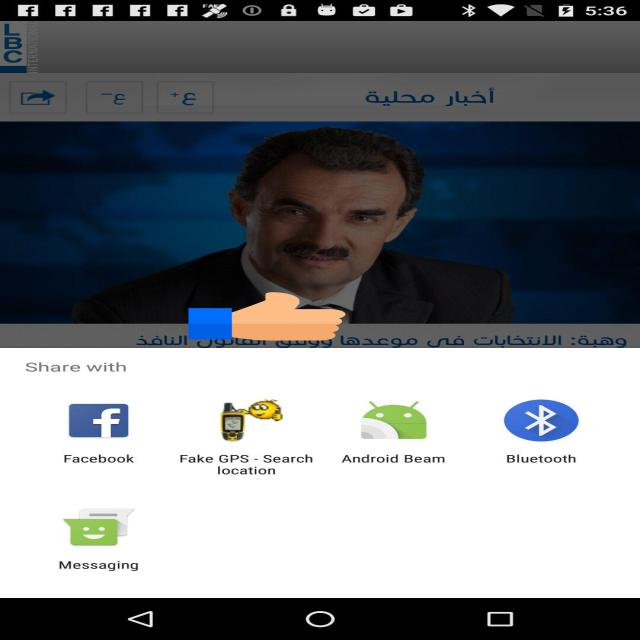privacy zuckering: (188, 291, 346, 342)
